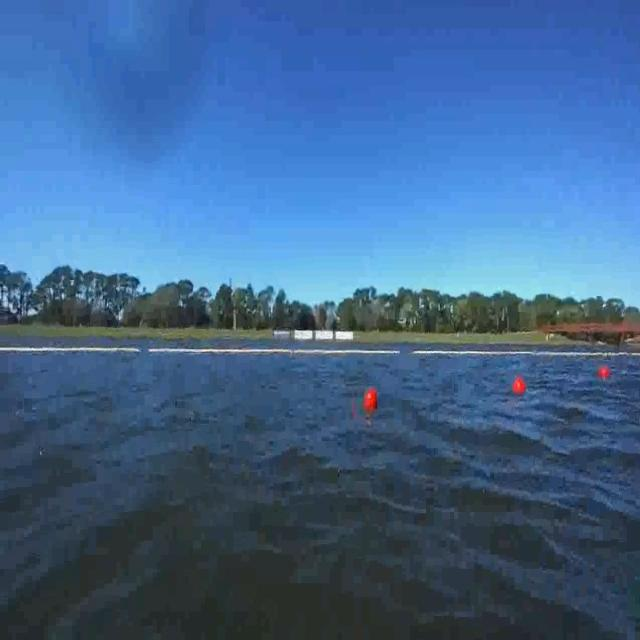red-buoy: (364, 386, 377, 410), (514, 378, 527, 397), (512, 375, 524, 394), (598, 366, 610, 380)
